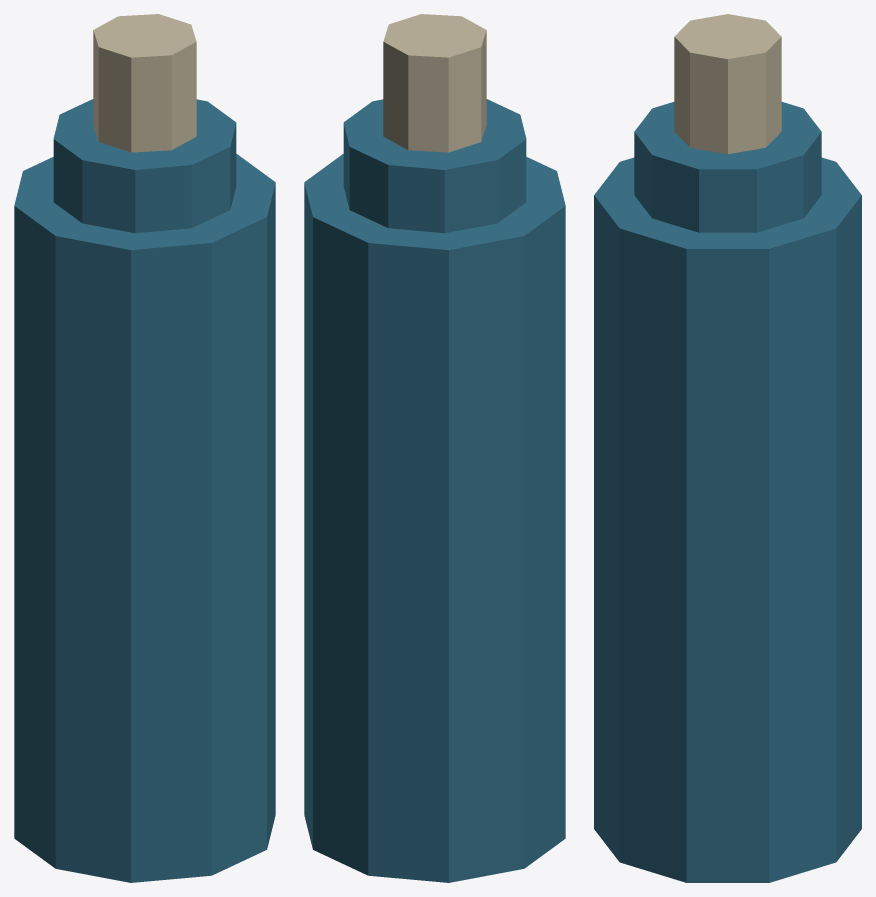
File: set_oil_bottle.glb
3 views of the same model, side by side, from view 1: azimuth 30°, elevation 25°; view 2: azimuth 150°, elevation 25°; view 3: azimuth 270°, elevation 25° (orthographic).
Visible parts, largest first — view 1: set_oil_bottle; view 2: set_oil_bottle; view 3: set_oil_bottle.
Boxes of the visible parts, x1=… form: set_oil_bottle: x1=14, y1=14, x2=275, y2=882; set_oil_bottle: x1=304, y1=14, x2=565, y2=882; set_oil_bottle: x1=594, y1=14, x2=861, y2=882.
Size of the model in its own units: 0.0571 by 0.196 by 0.06.
